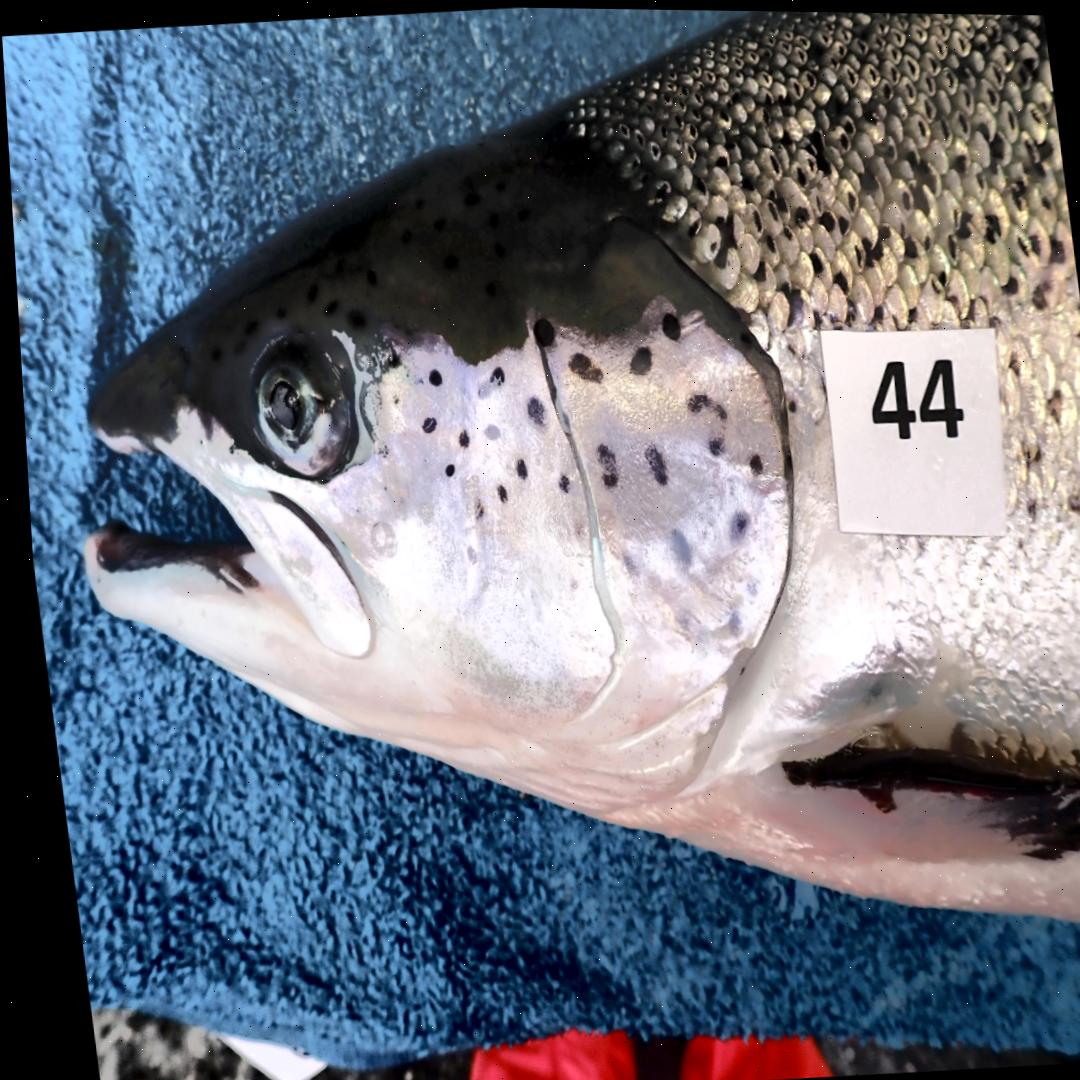spot: (682, 388, 723, 419), (591, 441, 614, 488), (565, 351, 598, 382), (639, 444, 662, 485), (474, 364, 501, 398), (721, 507, 745, 543), (663, 528, 685, 566), (625, 344, 649, 374), (529, 315, 551, 347), (657, 310, 678, 340), (522, 395, 541, 424), (614, 549, 634, 575), (719, 607, 735, 634), (702, 434, 718, 455), (744, 450, 758, 474), (479, 421, 496, 439), (509, 458, 523, 478), (424, 368, 438, 386), (416, 416, 432, 431), (468, 498, 479, 519), (552, 473, 564, 491), (453, 429, 465, 446), (492, 482, 502, 500), (439, 462, 450, 477), (390, 396, 396, 404)
